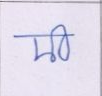i_matra: (53, 23, 70, 61)
